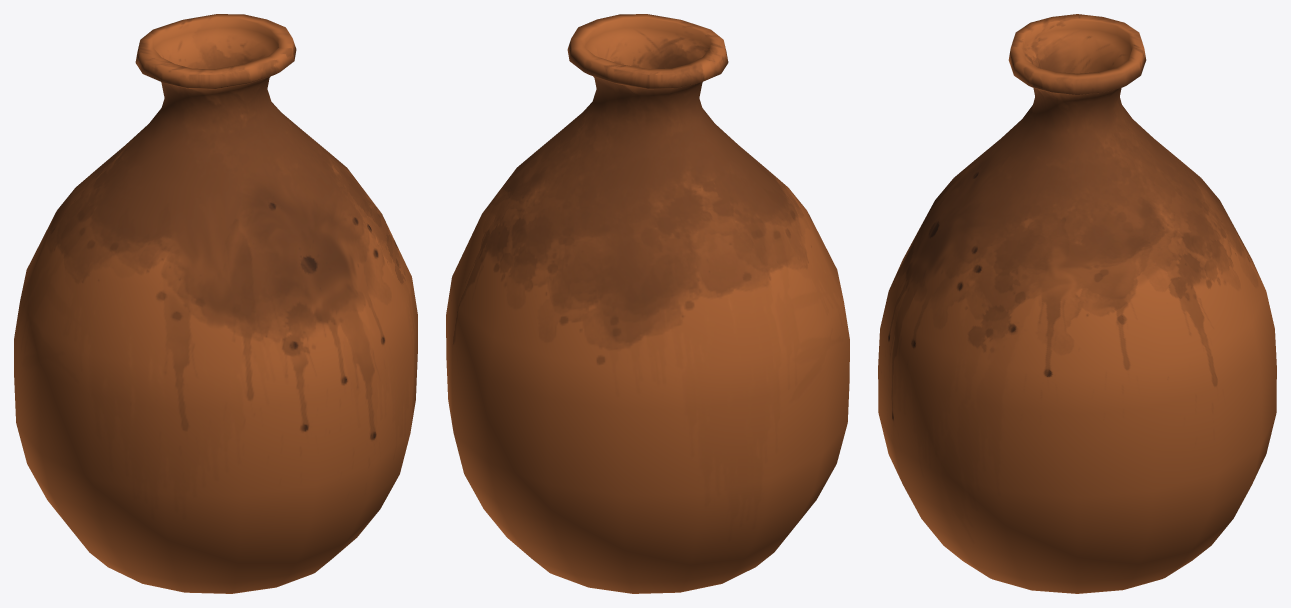
File: SM_Mado_PotteryD.fbx
The picture shows the model from 3 angles, left to right: view 1: azimuth 30°, elevation 25°; view 2: azimuth 150°, elevation 25°; view 3: azimuth 270°, elevation 25°; orthographic projection.
Visible parts, largest first — view 1: SM_Mado_PotteryD; view 2: SM_Mado_PotteryD; view 3: SM_Mado_PotteryD.
Part boxes in pixels (left/top/right/bottom): SM_Mado_PotteryD: left=14, top=14, right=417, bottom=593; SM_Mado_PotteryD: left=446, top=14, right=849, bottom=593; SM_Mado_PotteryD: left=878, top=14, right=1276, bottom=593.
Bounding box in the file's own units: 9.89 × 9.68 × 13.32.
1 material, 1 textured.
